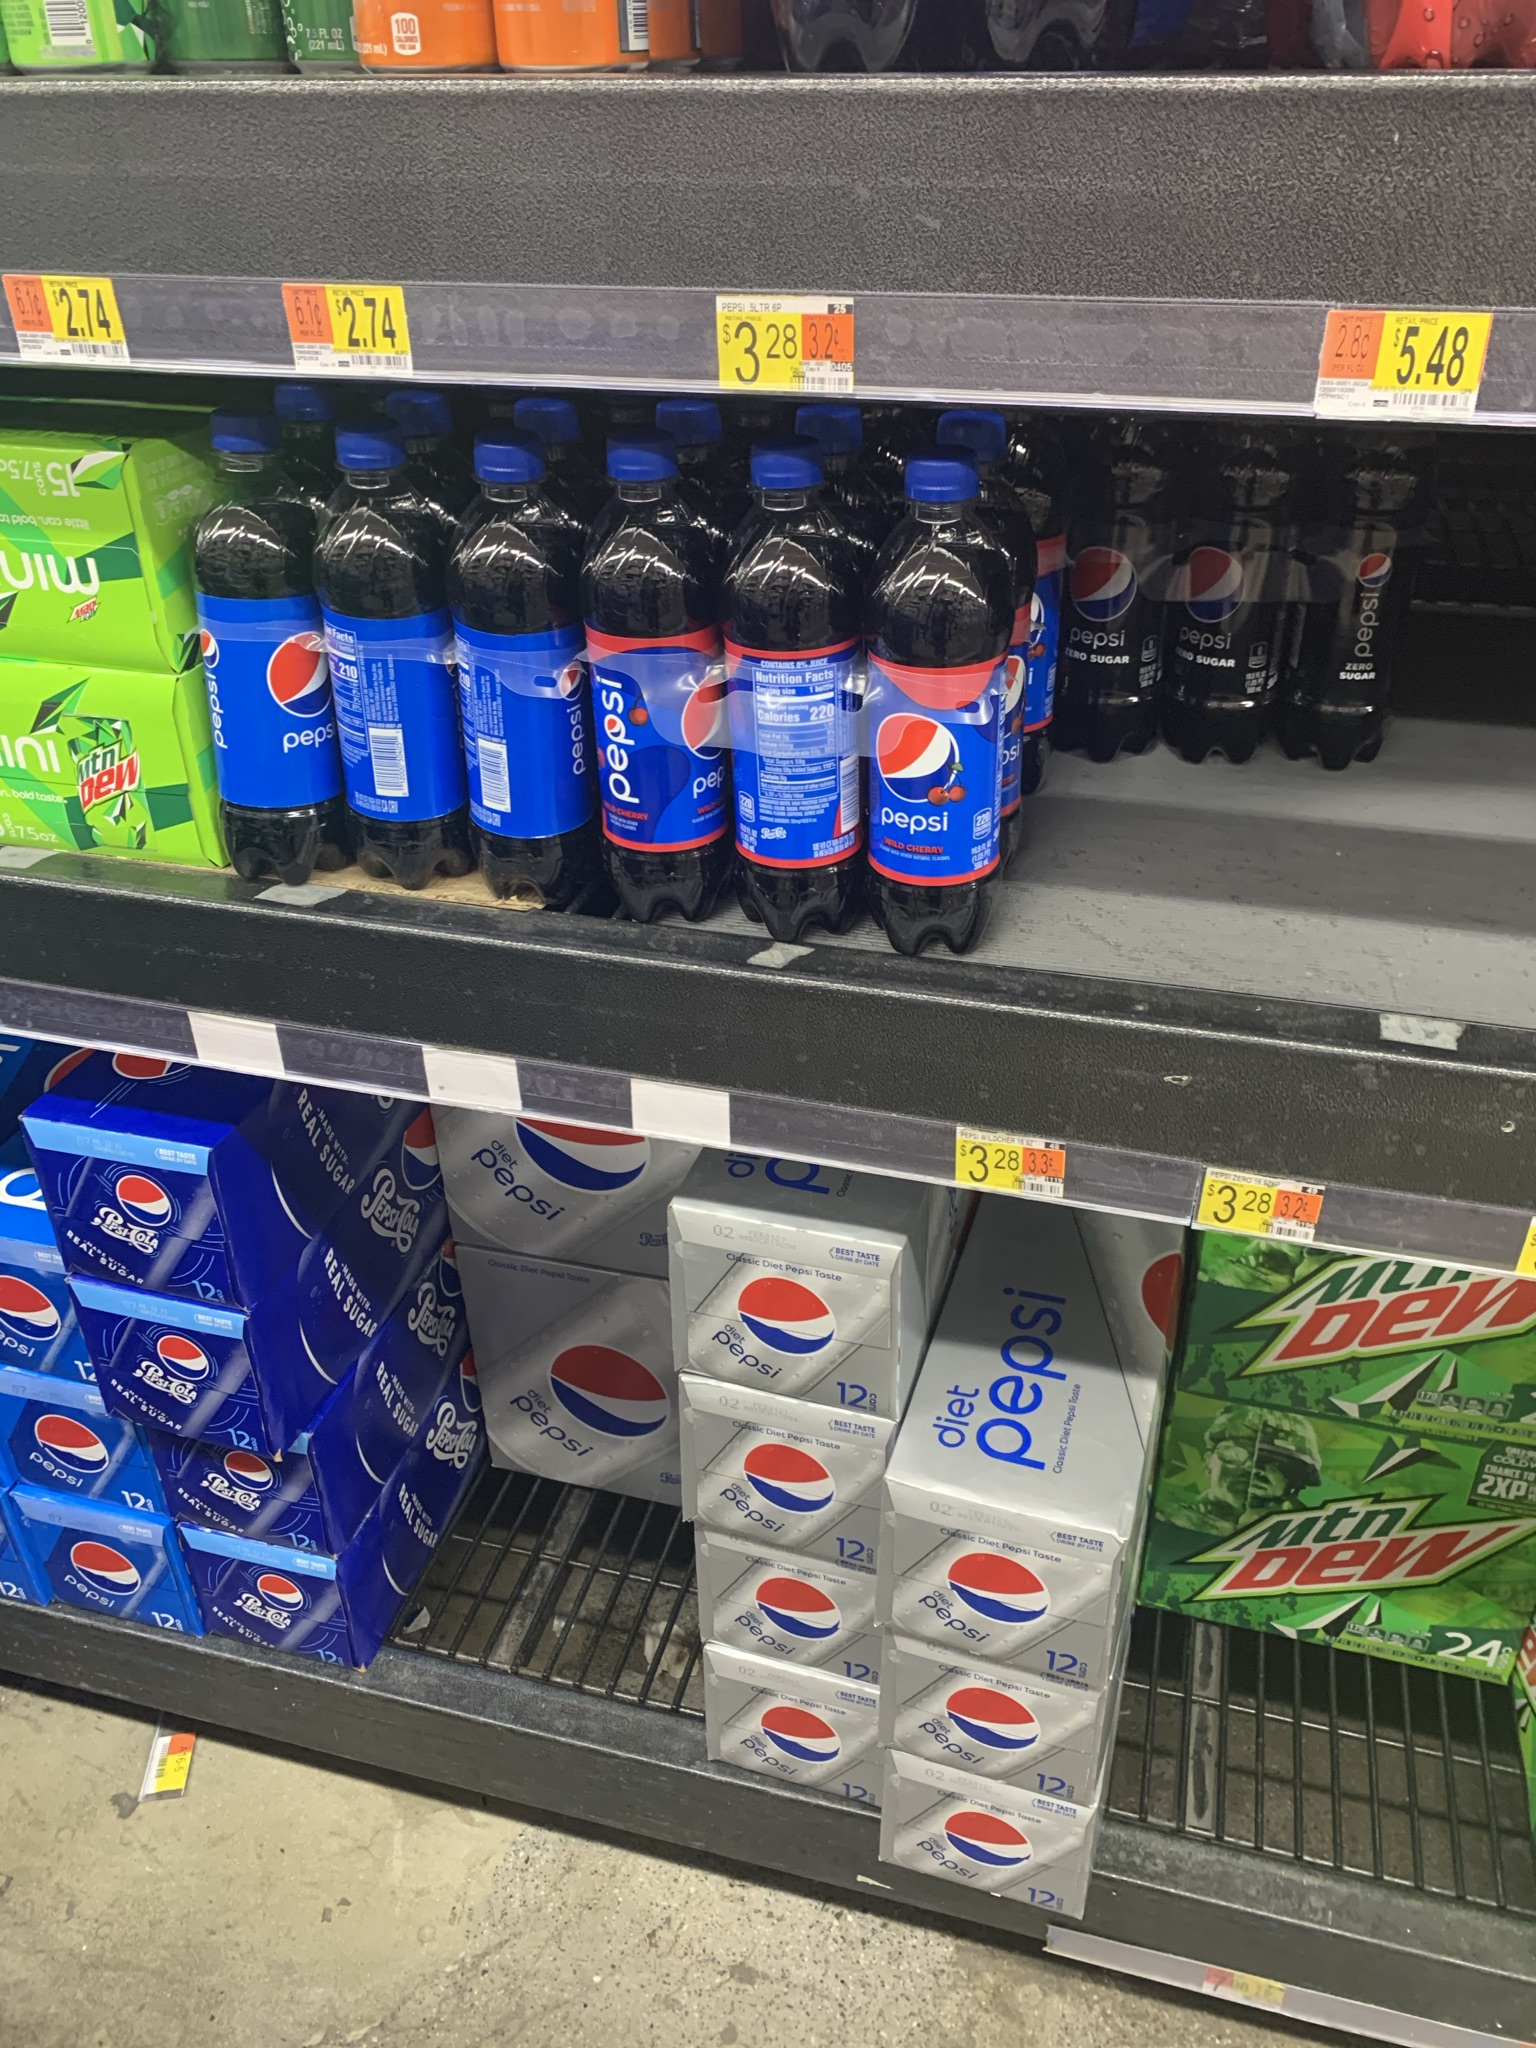mountain dew soda: (1192, 1234, 1504, 1659)
pepsi soda: (902, 1461, 1092, 1901), (739, 439, 874, 951), (461, 434, 594, 885), (210, 421, 344, 835), (902, 443, 1013, 929), (611, 424, 715, 893), (684, 1205, 892, 1419), (168, 1424, 353, 1659), (671, 1380, 870, 1580), (357, 419, 442, 839), (44, 1124, 234, 1300), (15, 1500, 194, 1656), (82, 1288, 265, 1435)
